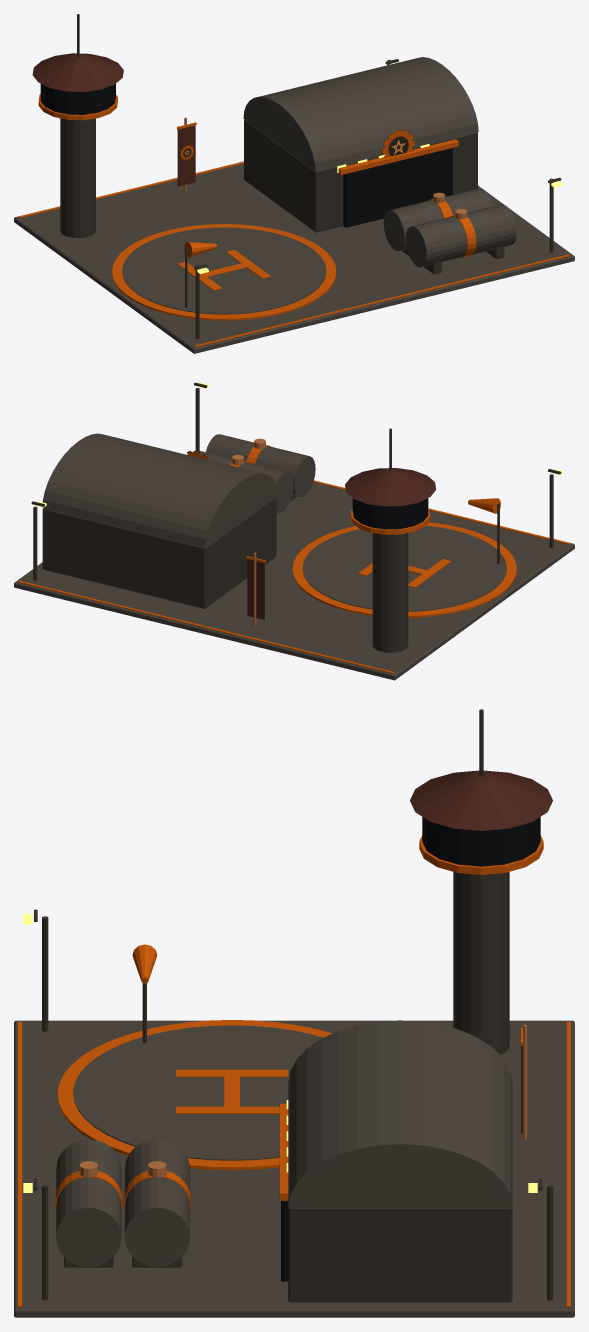
File: Thorvald_SubContractDepot.fbx
The picture shows the model from 3 angles, top to bottom: view 1: azimuth 30°, elevation 25°; view 2: azimuth 150°, elevation 25°; view 3: azimuth 270°, elevation 25°; orthographic projection. The views are drawn at different scales.
Parts seen in each view (by area): view 1: Thorvald_SubContractDepot; view 2: Thorvald_SubContractDepot; view 3: Thorvald_SubContractDepot.
Boxes of the visible parts, box(x1,y1,x2,y2) form: Thorvald_SubContractDepot: box(14, 14, 574, 353); Thorvald_SubContractDepot: box(14, 382, 574, 680); Thorvald_SubContractDepot: box(14, 709, 574, 1317).
Size of the model in its own units: 22.3 by 12.2 by 18.
9 materials, 1 textured.
